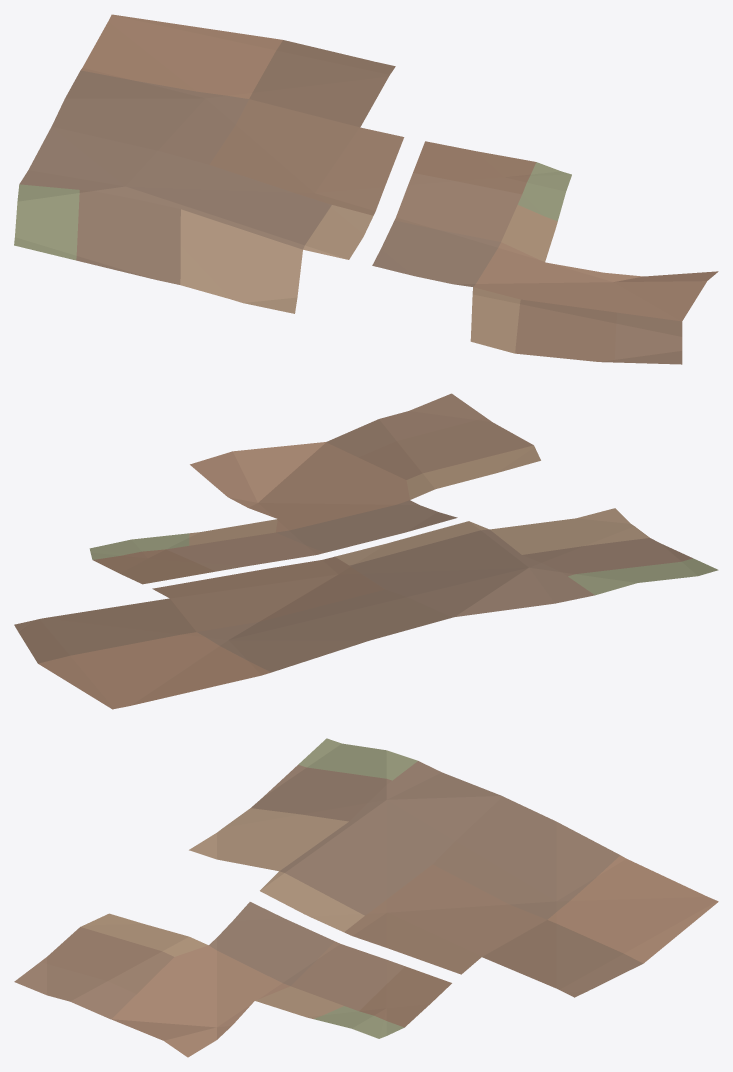
Rendered from farm_0_7_soil.glb.
3 views of the same model, one above another, from view 1: azimuth 30°, elevation 25°; view 2: azimuth 150°, elevation 25°; view 3: azimuth 270°, elevation 25° (orthographic). The views are drawn at different scales.
Parts seen in each view (by area): view 1: geometry_0; view 2: geometry_0; view 3: geometry_0.
Part boxes in pixels (x1,y1,x2,y2): geometry_0: (14,14,718,364); geometry_0: (14,393,718,709); geometry_0: (14,738,718,1057).
Bounding box in the file's own units: 260 × 48.77 × 332.
